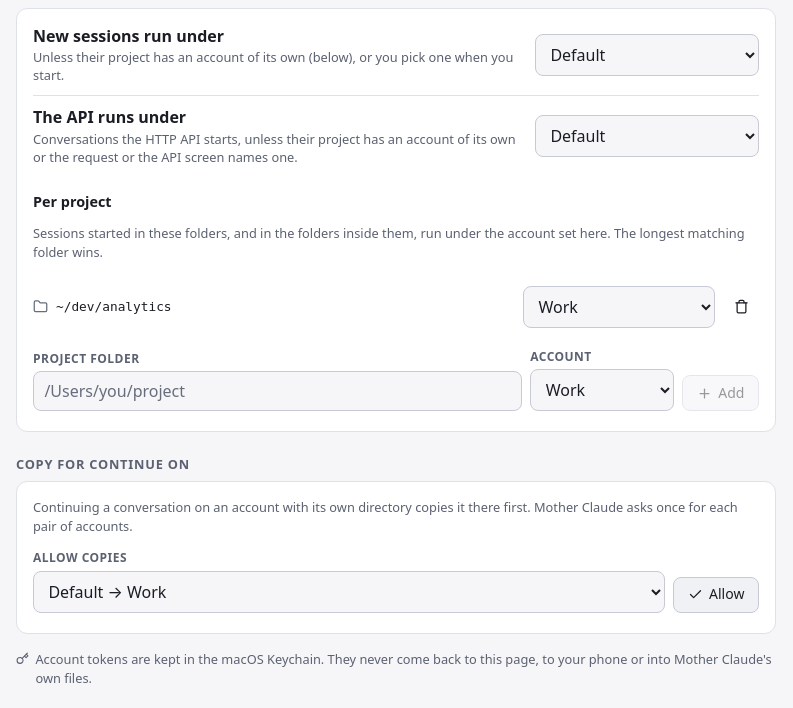
Test: AccountsComponent › refuses a project folder that is not a full path
(page scrolled)
Type "dev/payments" into the field named "dir".
click(278, 391); type("dev/payments")  # box 33,371 -> 522,411
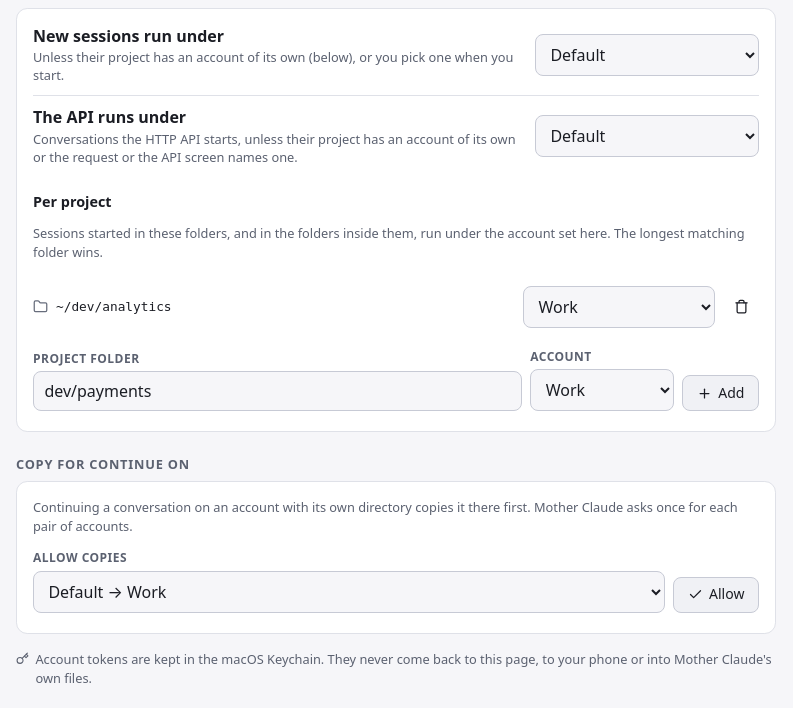
Click the submit button.
click(721, 393)  # box 682,375 -> 759,411
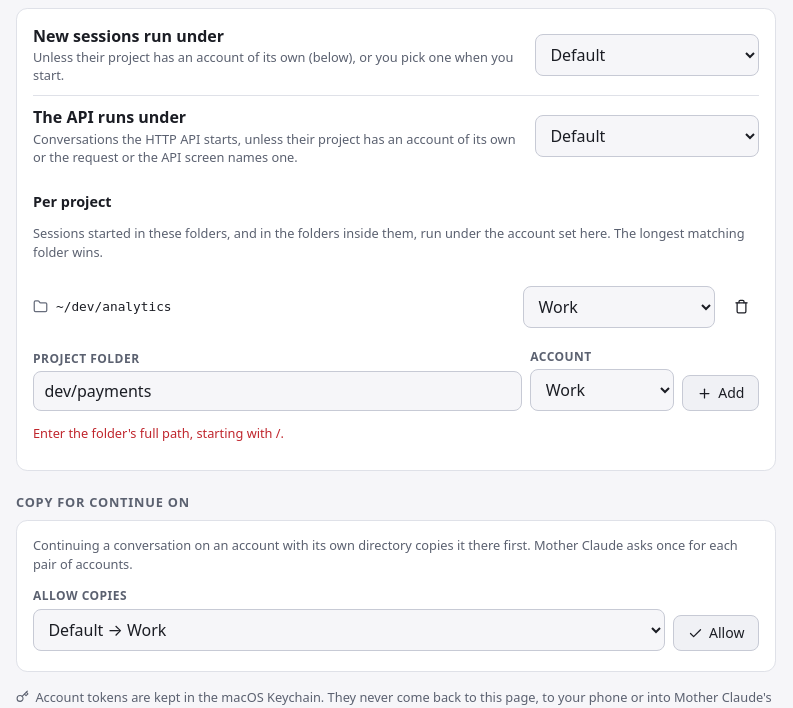
Result: the message with class "error-text" shows "starting with /" at 33,424 -> 284,442
